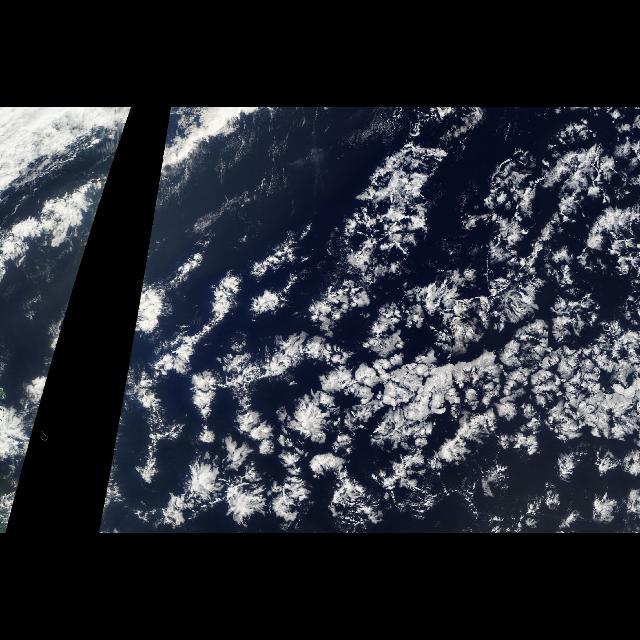Flower: (127, 112, 639, 530)
